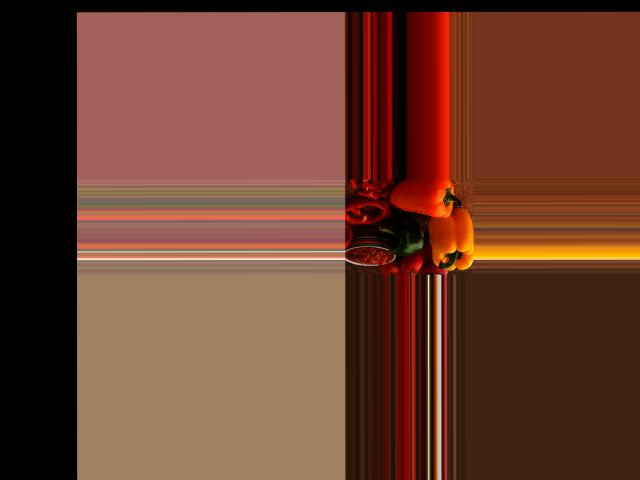bell_pepper: (427, 219, 473, 269)
